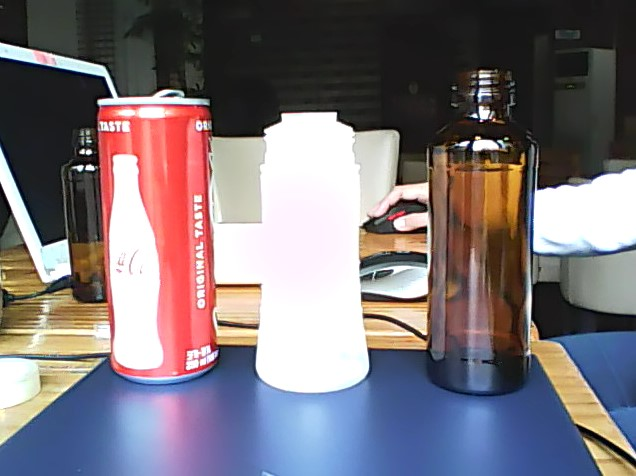Can: (94, 88, 221, 390)
Glass: (421, 64, 545, 399)
Plastic: (252, 108, 373, 396)
